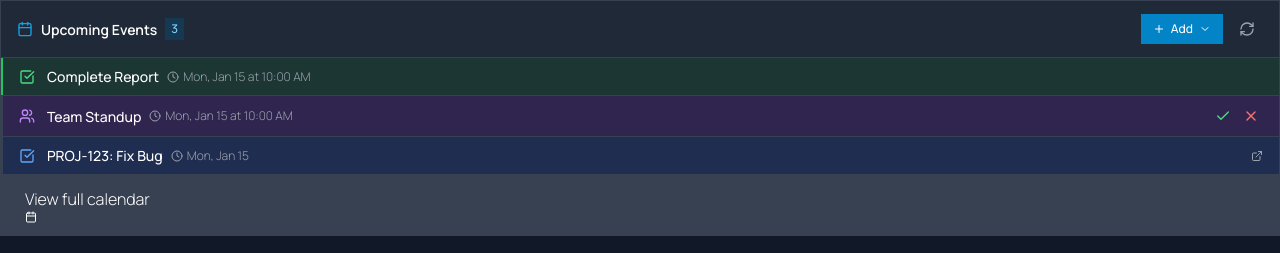
CalendarWidget › action buttons › opens dropdown menu when Add button is clicked
Click the button "Add" at (1182, 29), box [1141, 14, 1223, 44]
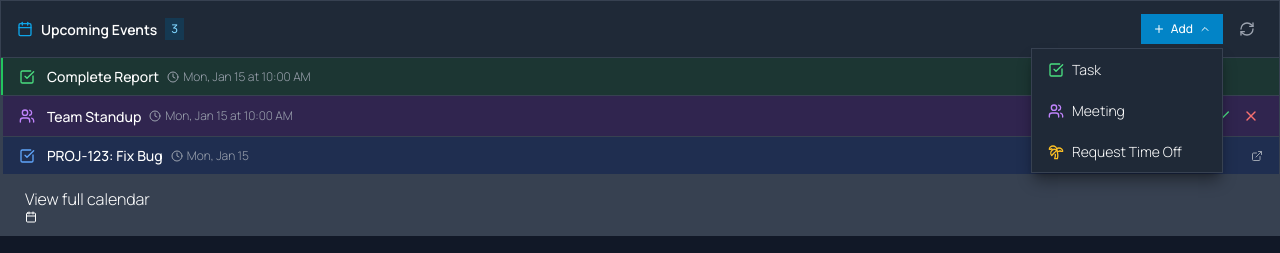
expect the button "Task" is shown: met, box [1032, 49, 1222, 90]
expect the button "Meeting" is shown: met, box [1032, 90, 1222, 131]
expect the button "Request Time Off" is shown: met, box [1032, 131, 1222, 172]
